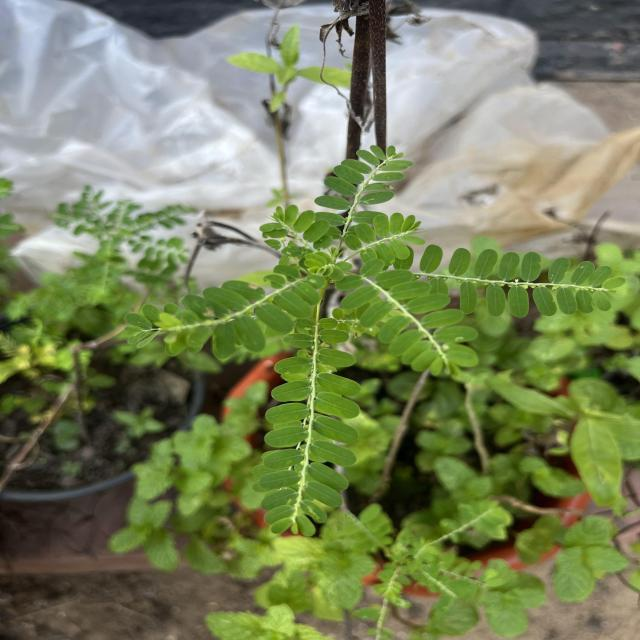Phyllanthus niruri: (255, 312, 363, 540), (381, 240, 627, 320), (332, 254, 483, 379), (157, 260, 329, 360), (309, 143, 412, 248), (340, 210, 427, 268), (262, 202, 334, 262)
